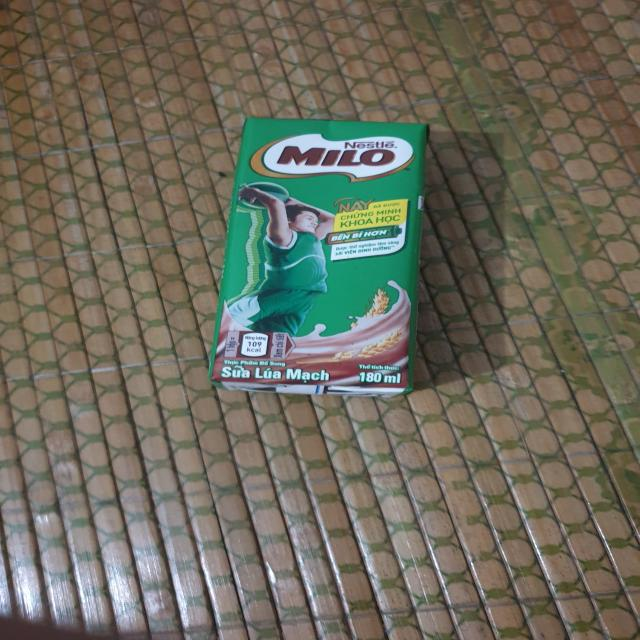Milo: (207, 115, 436, 404)
